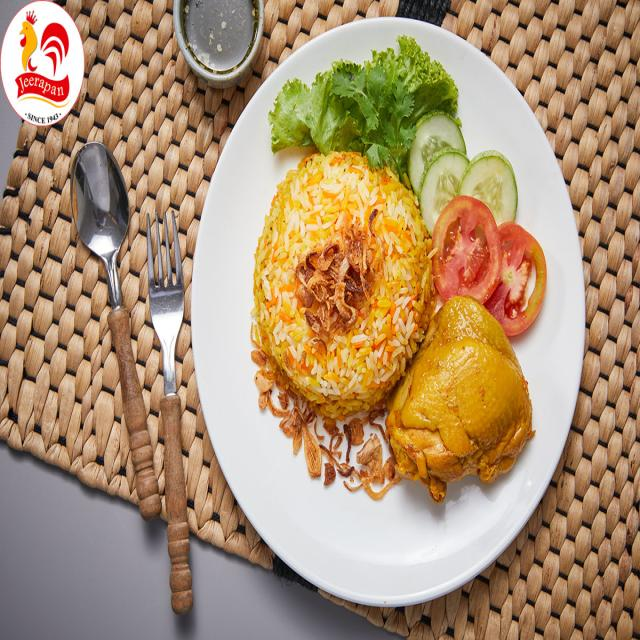Carbohydrate: (249, 150, 434, 412)
Kaow-Mokkai: (192, 19, 584, 609)
Protein: (392, 292, 534, 500)
Vegetable: (269, 40, 545, 340)
